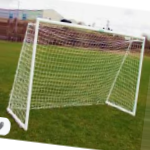goals: (7, 16, 146, 130)
